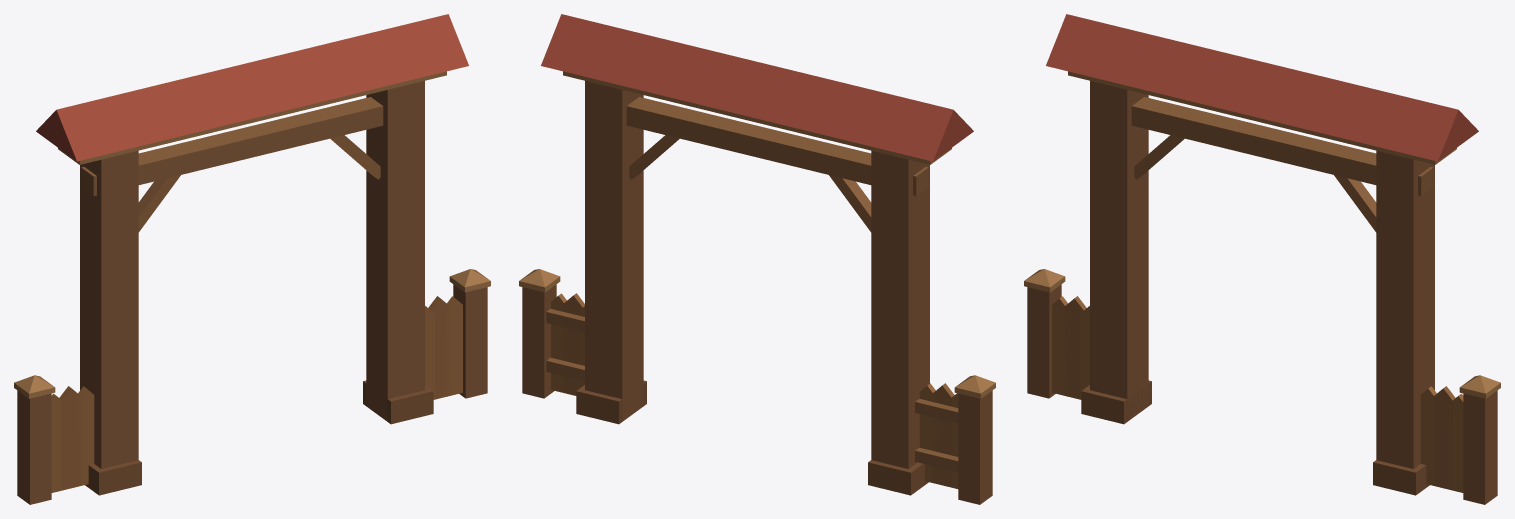
Rendered from gate_frame.fbx.
The picture shows the model from 3 angles, left to right: view 1: azimuth 30°, elevation 25°; view 2: azimuth 150°, elevation 25°; view 3: azimuth 330°, elevation 25°; orthographic projection.
Visible parts, largest first — view 1: gate_frame; view 2: gate_frame; view 3: gate_frame.
Boxes of the visible parts, x1,y1,x2,y2 form: gate_frame: (14,14,490,504); gate_frame: (519,14,995,504); gate_frame: (1024,14,1500,504).
Size of the model in its own units: 14.84 by 11.75 by 2.3.
